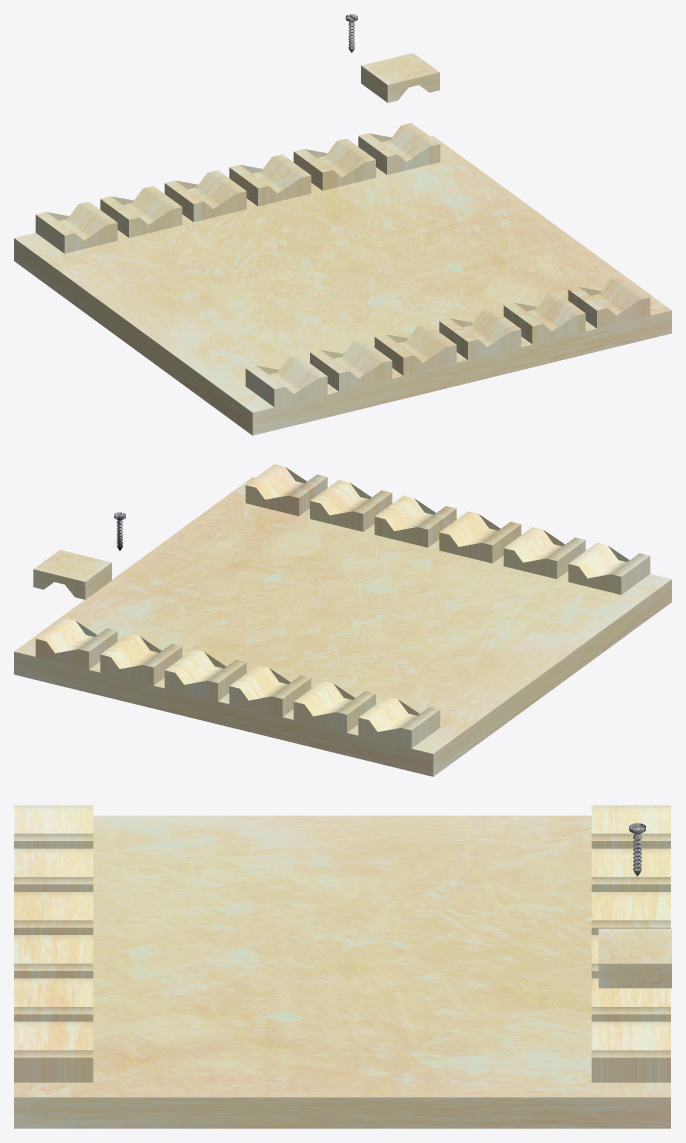
Rendered from WireBoard.fbx.
3 renders of one model, top to bottom at view 1: azimuth 30°, elevation 25°; view 2: azimuth 150°, elevation 25°; view 3: azimuth 270°, elevation 25°, orthographic. The views are drawn at different scales.
Visible parts, largest first — view 1: Box001, Box002; view 2: Box001, Box002; view 3: Box001, Box002, object 3.
Part boxes in pixels (x1,y1,x2,y2): Box001: (14, 123, 671, 435); Box002: (361, 53, 439, 102); Box001: (14, 464, 671, 776); Box002: (33, 550, 111, 599); Box001: (14, 805, 670, 1128); Box002: (598, 928, 671, 988); object 3: (629, 823, 645, 876).
Size of the model in its own units: 142 by 56.28 by 140.
